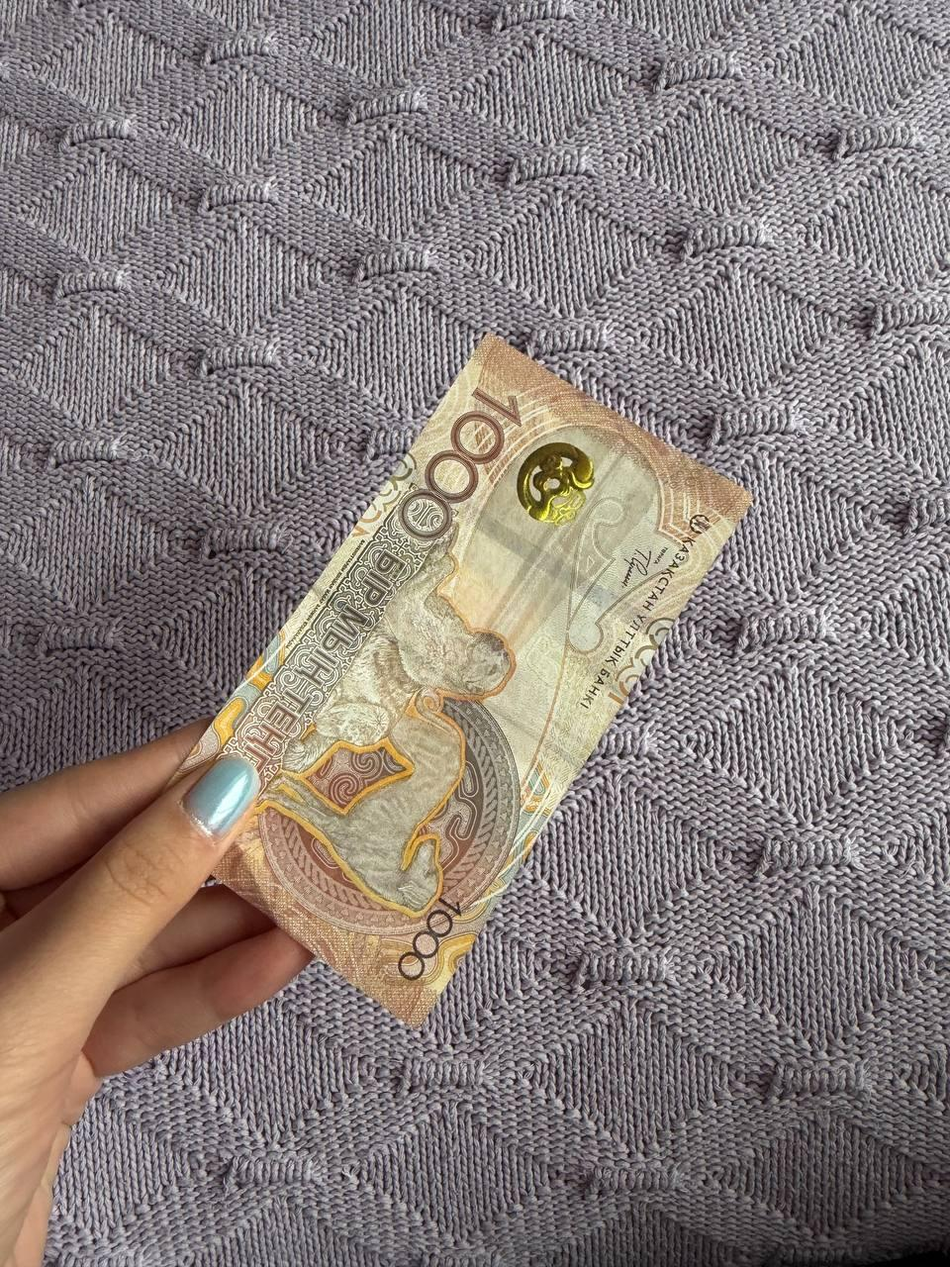cash_stack: (170, 329, 749, 1024)
